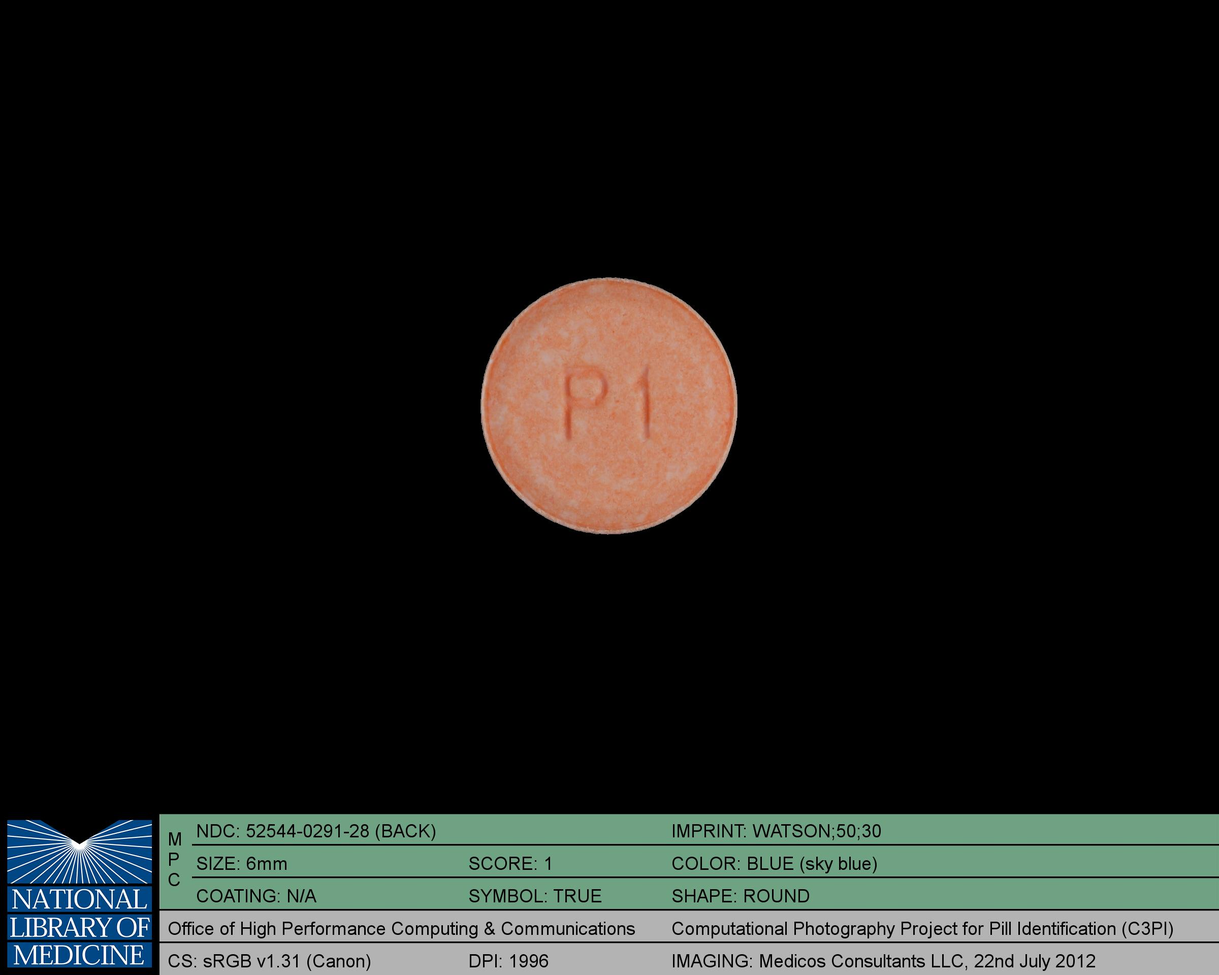Pill: (464, 262, 749, 549)
